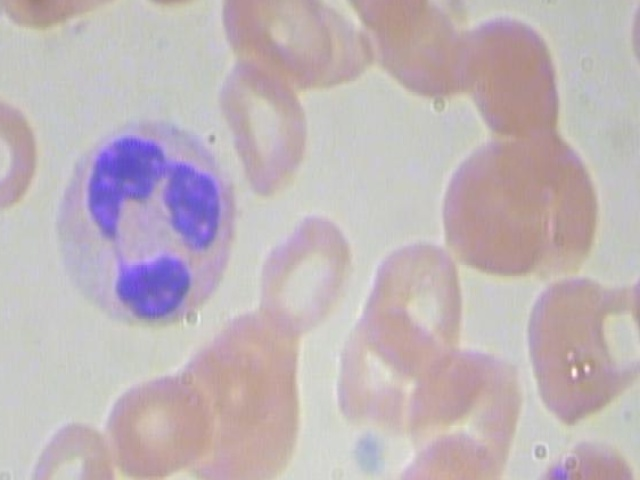Platelets: (347, 423, 393, 480)
RBC: (435, 139, 565, 280), (404, 342, 528, 479), (522, 273, 625, 428), (459, 8, 569, 149), (215, 50, 317, 198), (100, 355, 211, 480), (251, 207, 357, 334), (332, 308, 438, 432), (365, 235, 464, 363), (361, 0, 466, 107), (14, 408, 119, 480), (0, 90, 40, 218), (0, 0, 80, 37), (121, 0, 227, 6)
WBC: (50, 119, 251, 328)
